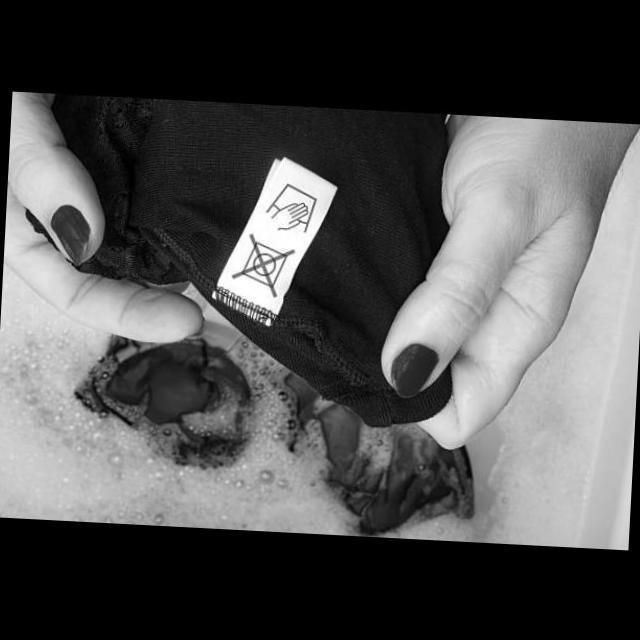DN_tumble_dry: (227, 228, 297, 300)
hand_wash: (262, 180, 318, 234)
